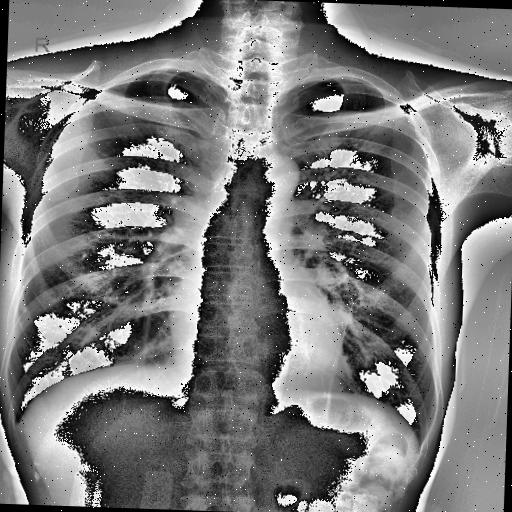10- Pleural effusion: (10, 408, 22, 432)
11- Pleural thickening: (284, 74, 373, 89), (146, 64, 206, 80), (10, 408, 22, 432)
13- Pulmonary fibrosis: (320, 304, 354, 424)
8- Nodule-Mass: (20, 305, 28, 313)
